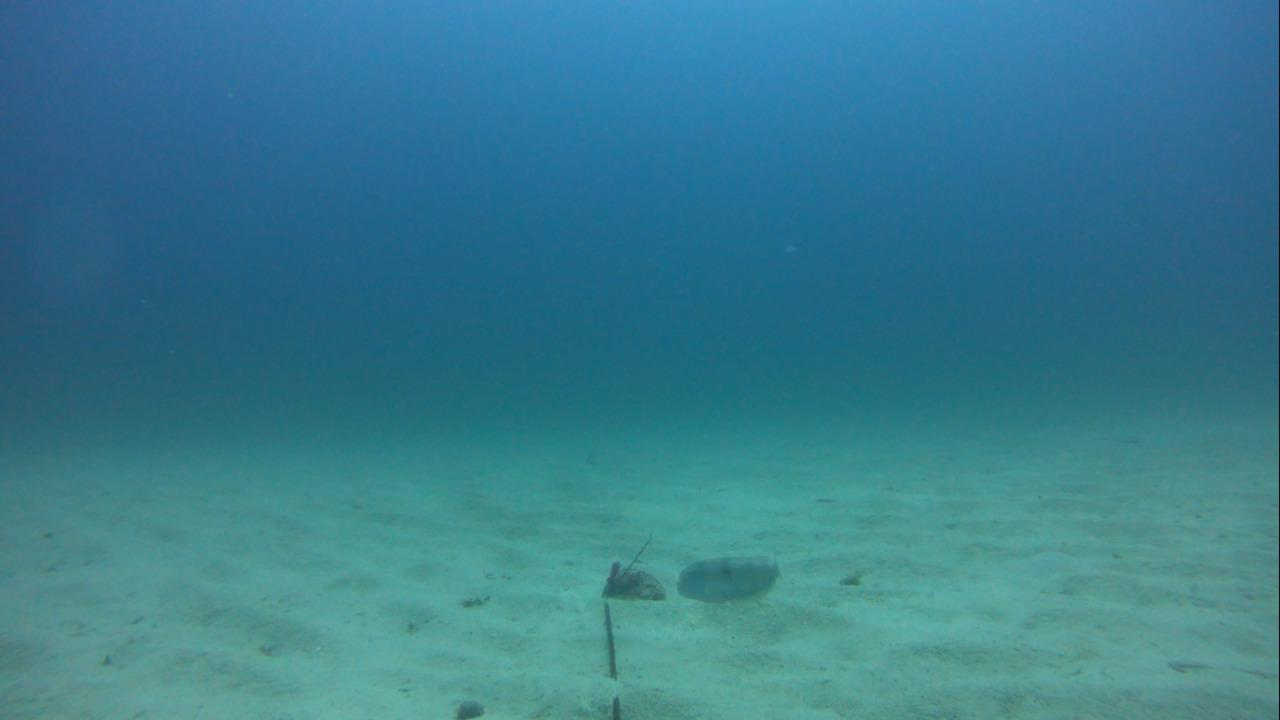raor: (673, 549, 784, 607)
